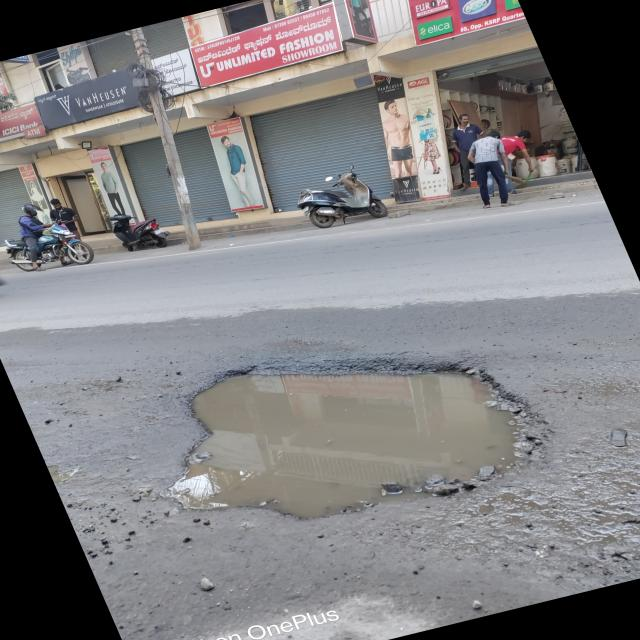Puddle pothole: (162, 352, 562, 522)
